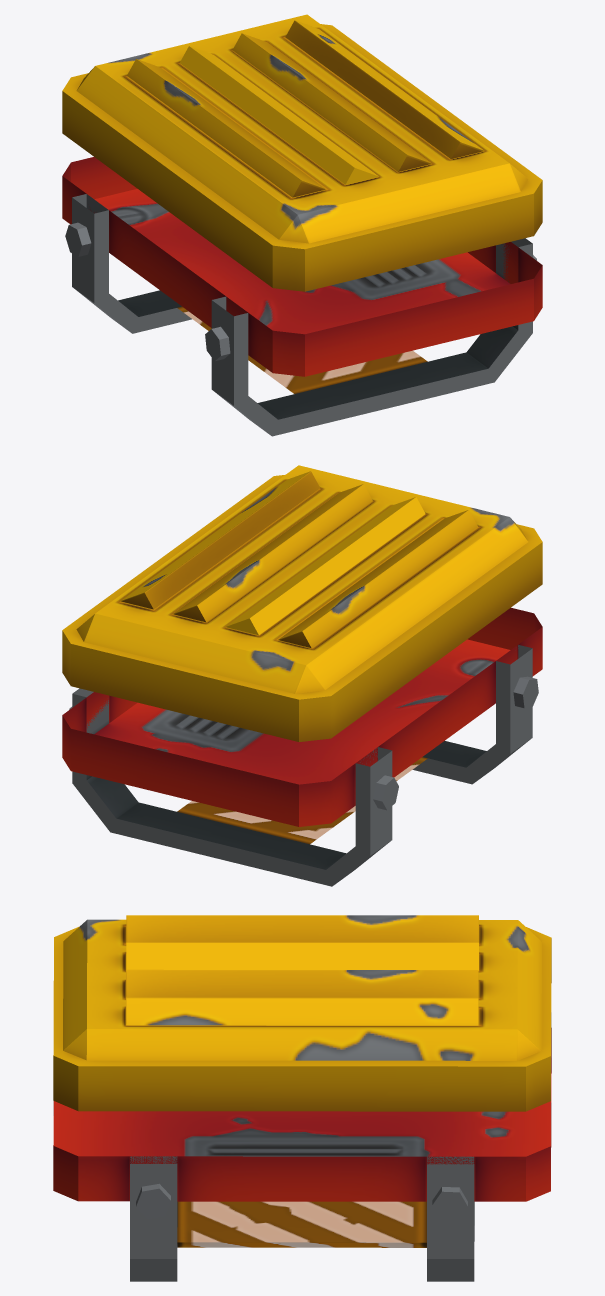
Rendered from env_ruin_container_04_lod0.fbx.
3 renders of one model, top to bottom at view 1: azimuth 30°, elevation 25°; view 2: azimuth 150°, elevation 25°; view 3: azimuth 270°, elevation 25°, orthographic. The views are drawn at different scales.
Visible parts, largest first — view 1: env_ruin_container_04_lod0; view 2: env_ruin_container_04_lod0; view 3: env_ruin_container_04_lod0.
Part boxes in pixels (x1=…): env_ruin_container_04_lod0: x1=62, y1=14, x2=542, y2=436; env_ruin_container_04_lod0: x1=62, y1=465, x2=542, y2=886; env_ruin_container_04_lod0: x1=53, y1=915, x2=551, y2=1281.
Size of the model in its own units: 22.85 by 16.4 by 32.28.
